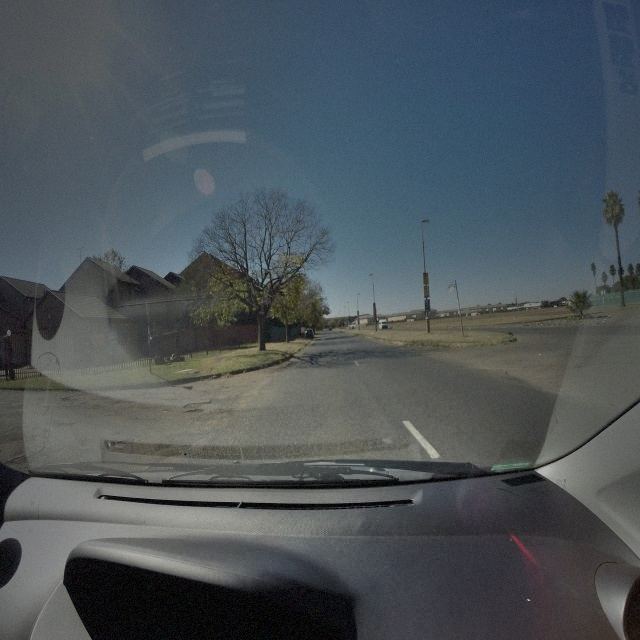pothole: (108, 440, 128, 450), (183, 401, 211, 407), (62, 395, 76, 405), (184, 410, 204, 416), (80, 400, 88, 404)
